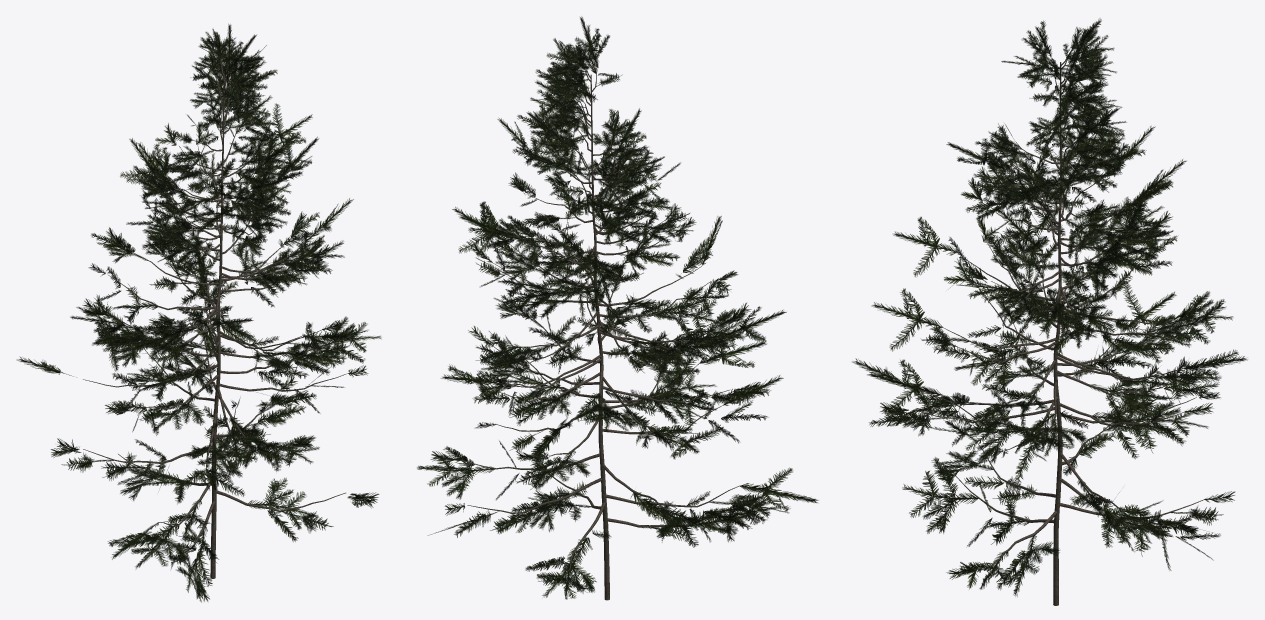
File: tree3.gltf
The picture shows the model from 3 angles, left to right: view 1: azimuth 30°, elevation 25°; view 2: azimuth 150°, elevation 25°; view 3: azimuth 270°, elevation 25°; orthographic projection. The views are drawn at different scales.
Parts seen in each view (by area): view 1: fir_sapling_medium_a_LOD2.001, fir_sapling_medium_a_LOD2; view 2: fir_sapling_medium_a_LOD2.001, fir_sapling_medium_a_LOD2; view 3: fir_sapling_medium_a_LOD2.001, fir_sapling_medium_a_LOD2.
Boxes of the visible parts, x1,y1,x2,y2 form: fir_sapling_medium_a_LOD2.001: [17, 24, 381, 602]; fir_sapling_medium_a_LOD2: [83, 56, 346, 578]; fir_sapling_medium_a_LOD2.001: [417, 16, 818, 599]; fir_sapling_medium_a_LOD2: [461, 69, 739, 600]; fir_sapling_medium_a_LOD2.001: [852, 18, 1247, 596]; fir_sapling_medium_a_LOD2: [913, 50, 1203, 605].
Size of the model in its own units: 5.06 by 8.77 by 5.32.
